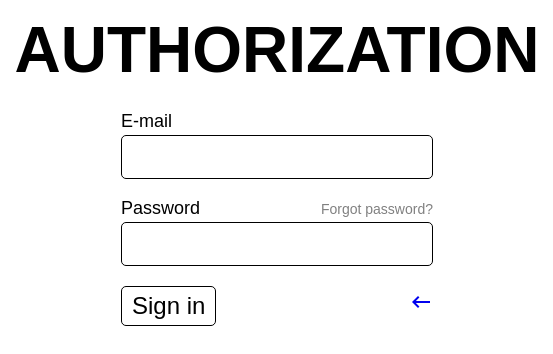
Test: Authorization › Authorization with invalid data › Submit with valid email and short password
Type "costincometestuser@gmail.com" into the field with id "email" at (277, 157), box [121,135,433,179]
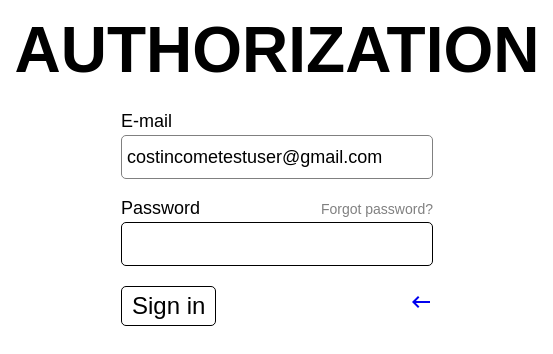
Type "passwor" into the password field labelled "Password" at (277, 244), box [121,222,433,266]
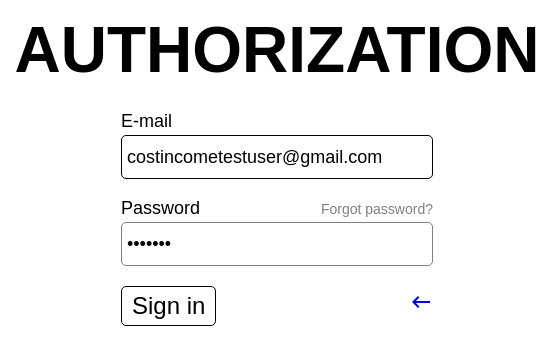
Submit the form, box [121,112,433,326]
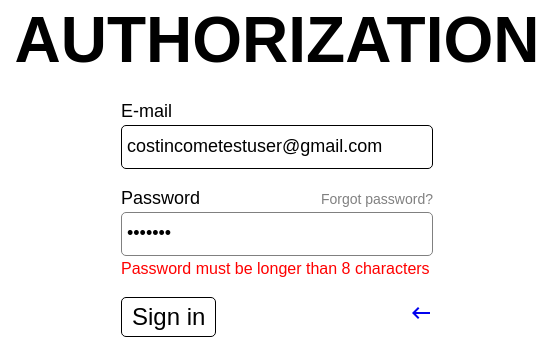
Expected: the text "Password must be longer than 8 characters" is shown, [121,260,430,276]
